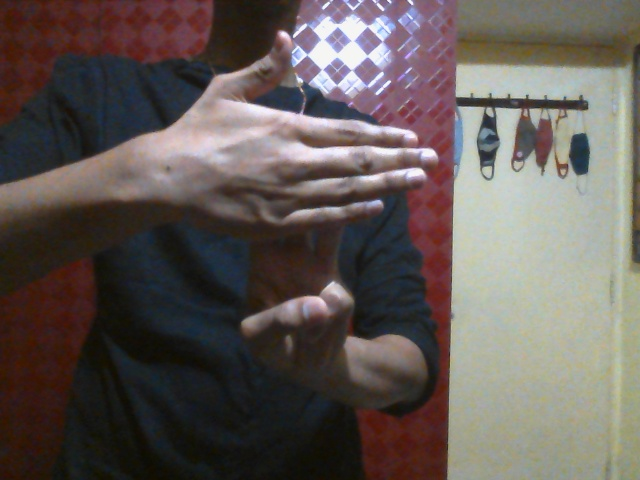M: (184, 29, 438, 380)
